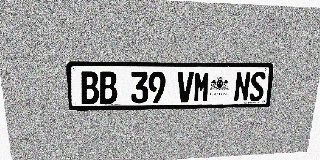3: (131, 71, 148, 103)
9: (149, 72, 166, 103)
B: (79, 71, 99, 104), (99, 71, 117, 104)
M: (193, 72, 210, 102)
N: (233, 72, 251, 101)
S: (248, 72, 266, 101)
V: (177, 72, 194, 103)
